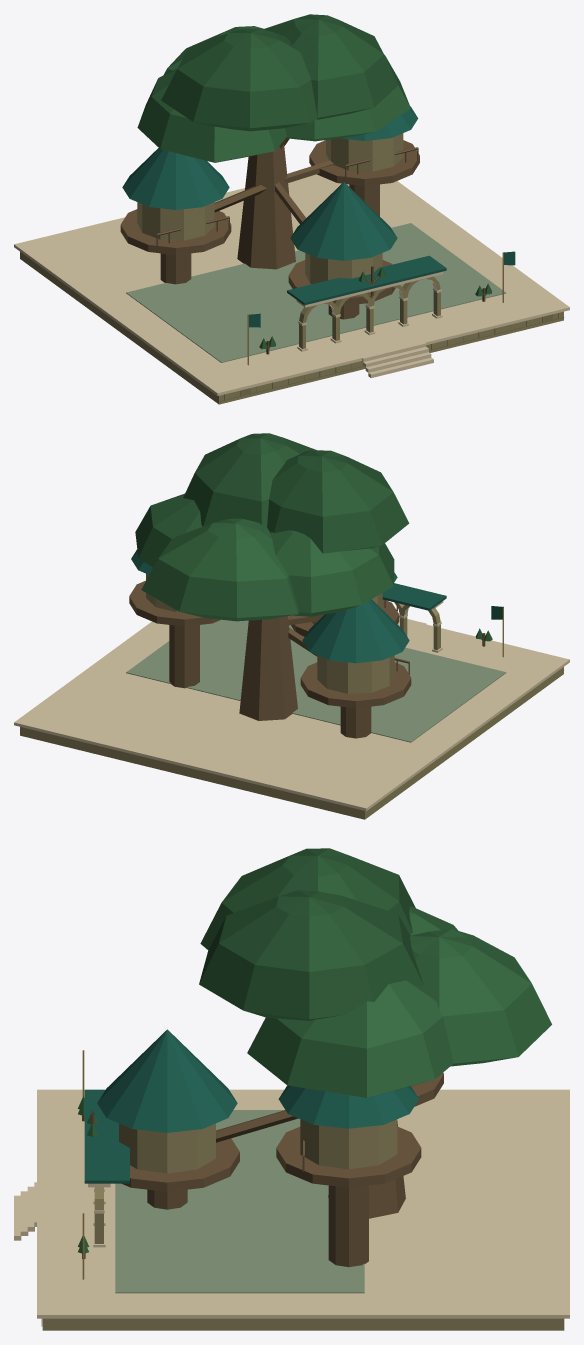
File: forest.glb
3 renders of one model, top to bottom at view 1: azimuth 30°, elevation 25°; view 2: azimuth 150°, elevation 25°; view 3: azimuth 270°, elevation 25°, orthographic. The views are drawn at different scales.
Visible parts, largest first — view 1: precinct-base, living-court, living-court-roof, inhabited-detail; view 2: living-court, precinct-base, living-court-roof; view 3: precinct-base, living-court, living-court-roof, inhabited-detail.
Part boxes in pixels (<box>): precinct-base: <box>14,174,569,404</box>; living-court: <box>120,14,443,351</box>; living-court-roof: <box>122,106,446,305</box>; inhabited-detail: <box>219,251,564,401</box>; living-court: <box>129,433,443,738</box>; precinct-base: <box>14,616,569,819</box>; living-court-roof: <box>131,549,446,663</box>; precinct-base: <box>37,1089,569,1330</box>; living-court: <box>87,848,551,1267</box>; living-court-roof: <box>84,1029,418,1183</box>; inhabited-detail: <box>14,1050,89,1326</box>.
Bounding box in the file's own units: 23.5 × 16.64 × 24.52.
